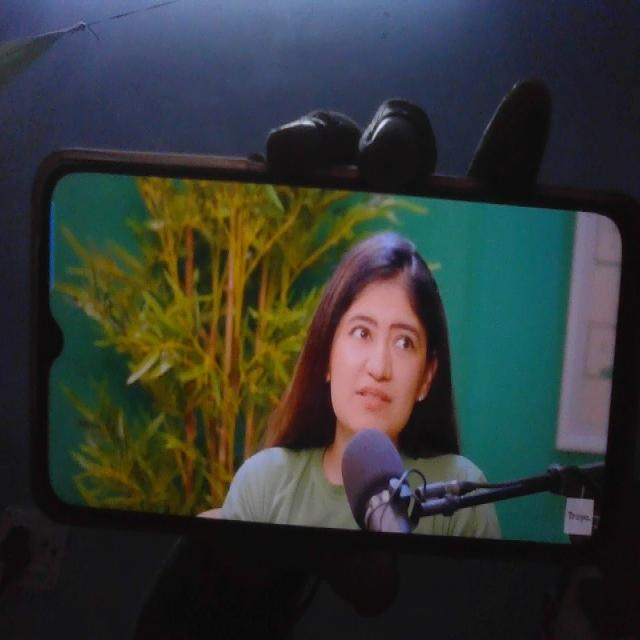fake: (326, 234, 436, 442)
